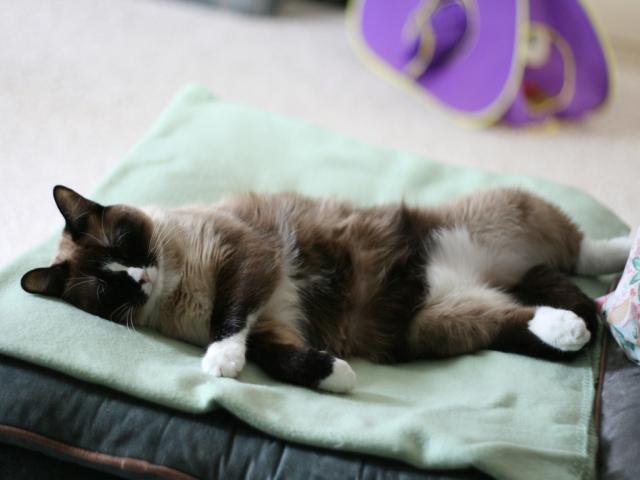Cat: (18, 180, 634, 390)
